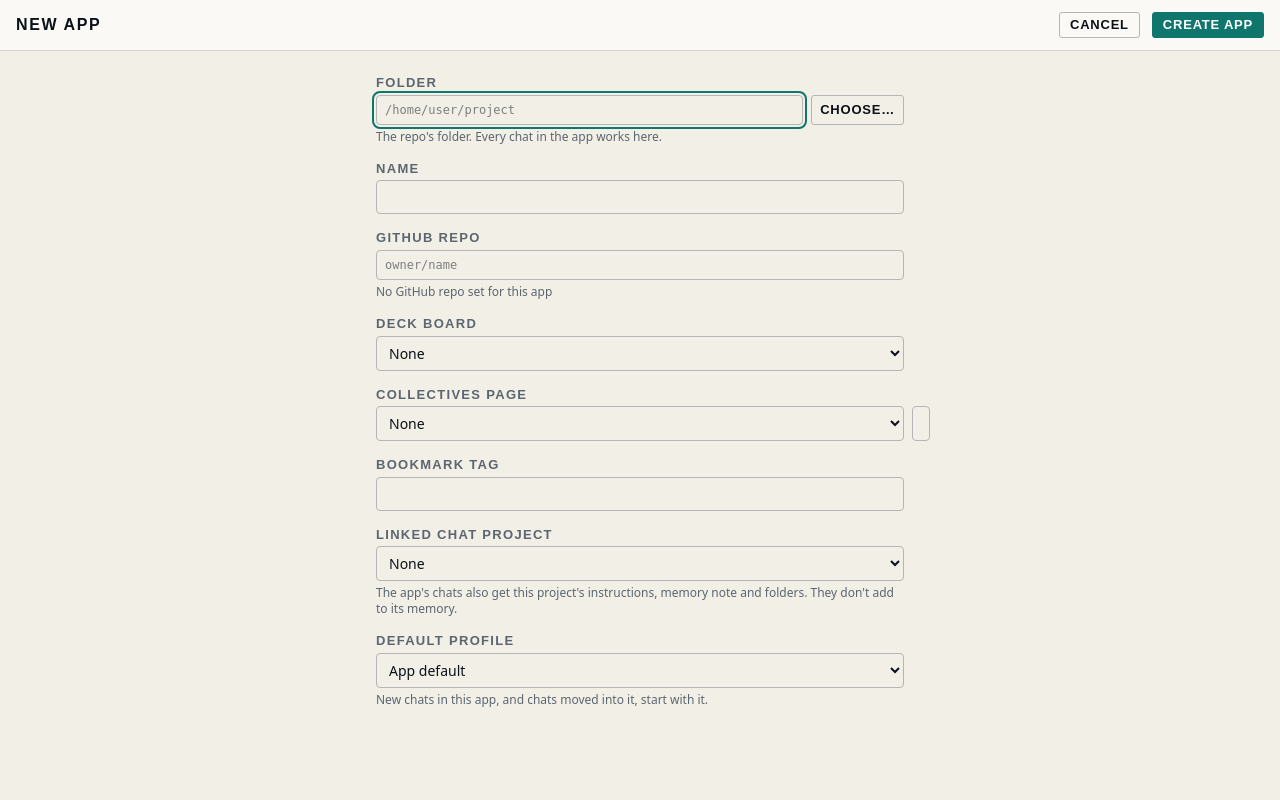
Test: AppView, creating (spec 2026-10-20-code-tab-design, "Creating an app") › a later folder replaces a detected repo the user left alone
Click the button "Choose…".
click(858, 110)  # box x1=811 y1=95 x2=904 y2=125
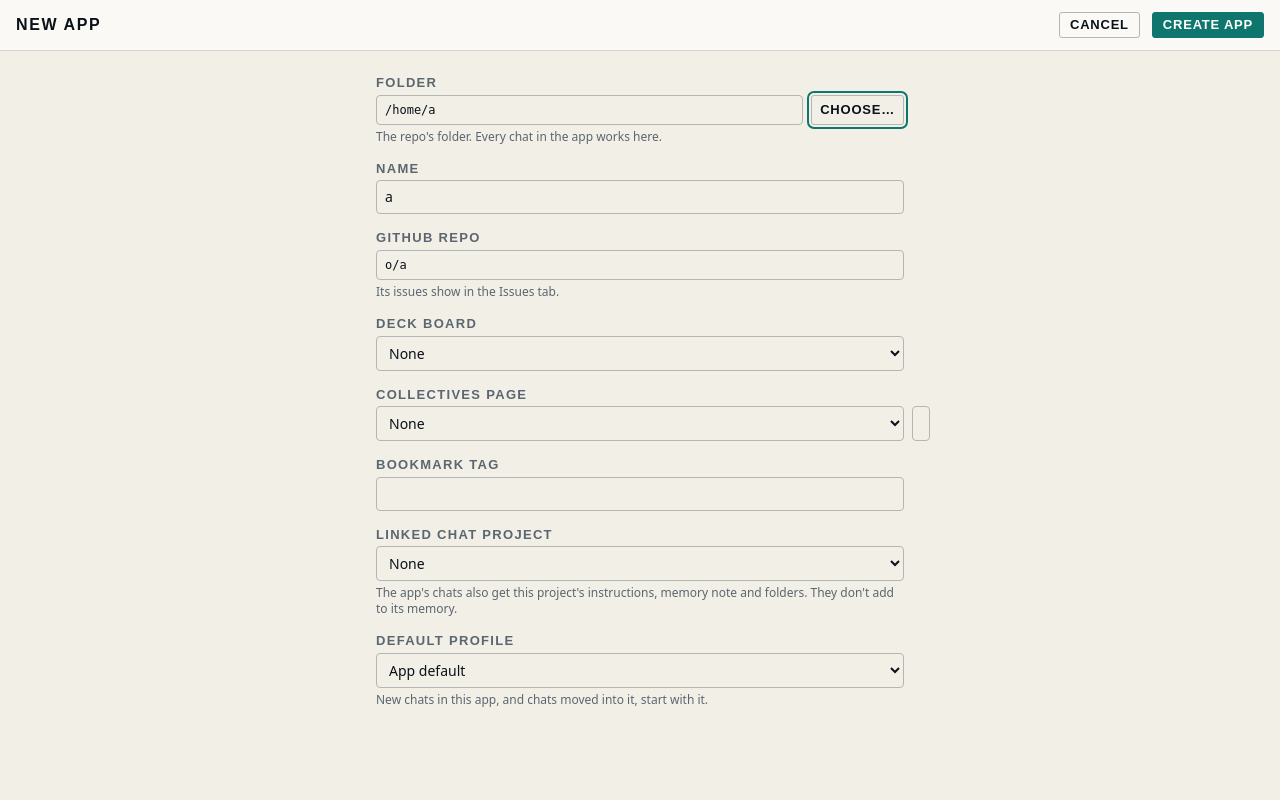
Check: the field labelled "GitHub repo" holds "o/a", box x1=376 y1=250 x2=904 y2=280
Click the button "Choose…".
click(858, 110)  # box x1=811 y1=95 x2=904 y2=125
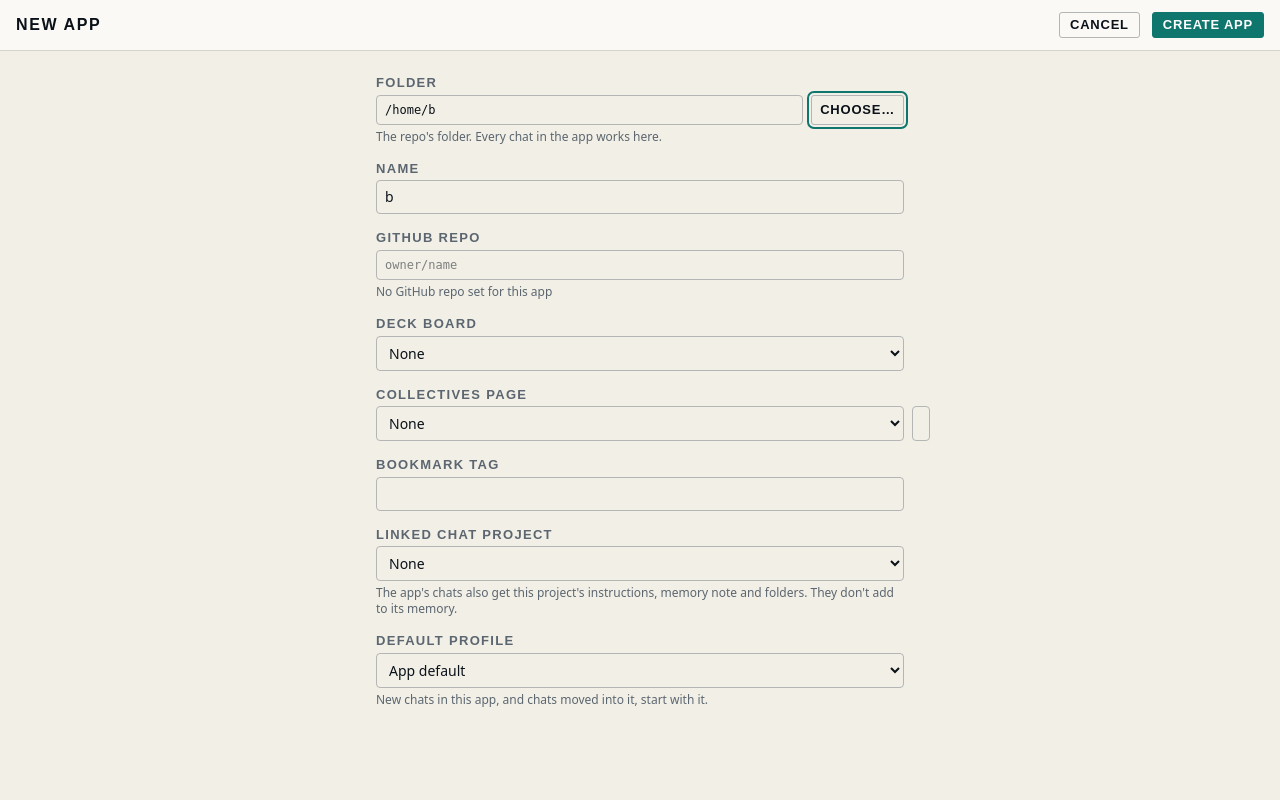
Check: the field labelled "GitHub repo" is empty, box x1=376 y1=250 x2=904 y2=280
Check: the field labelled "Name" holds "b", box x1=376 y1=180 x2=904 y2=214
